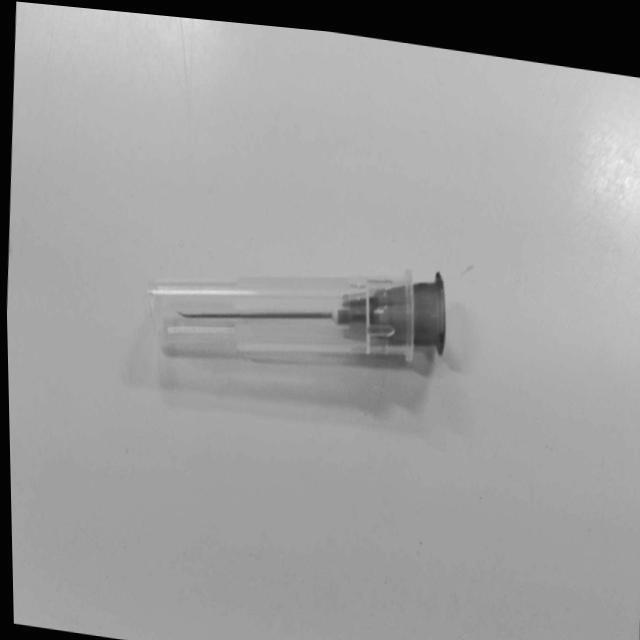Sharps: (146, 267, 448, 366)
